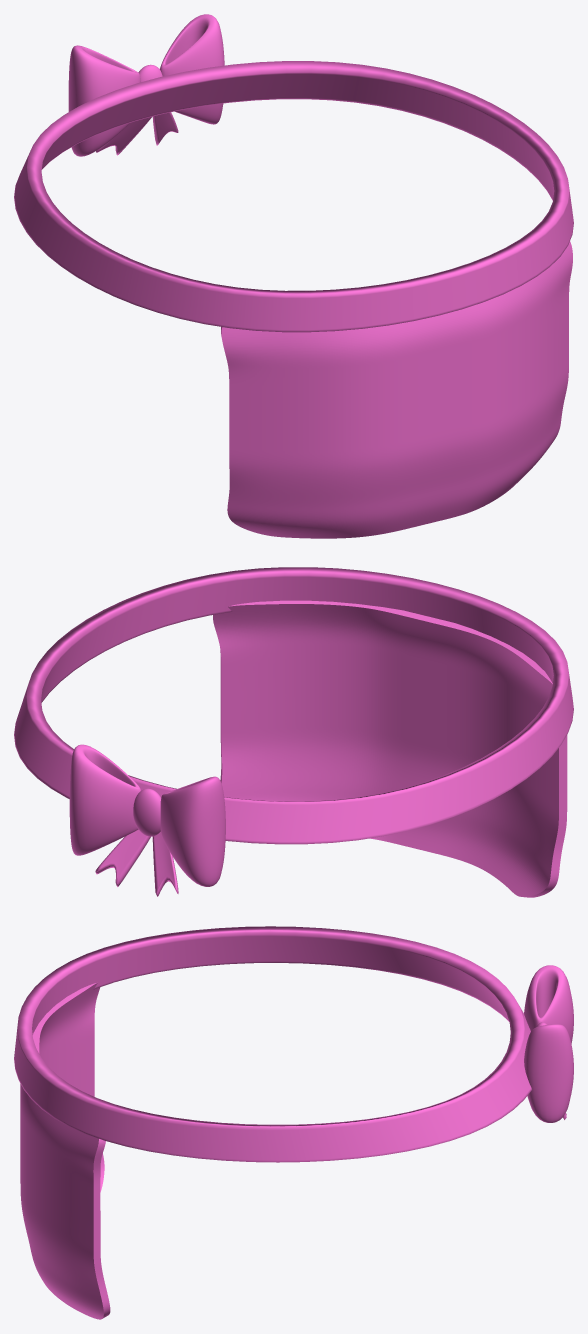
The model's file is Sef_penguen_onluk.fbx.
3 renders of one model, top to bottom at view 1: azimuth 30°, elevation 25°; view 2: azimuth 150°, elevation 25°; view 3: azimuth 270°, elevation 25°, orthographic. The views are drawn at different scales.
Visible parts, largest first — view 1: Plane.001; view 2: Plane.001; view 3: Plane.001.
Boxes of the visible parts, x1,y1,x2,y2 form: Plane.001: (14, 14, 573, 538); Plane.001: (14, 567, 573, 897); Plane.001: (14, 926, 573, 1319).
Size of the model in its own units: 225 by 133 by 256.
